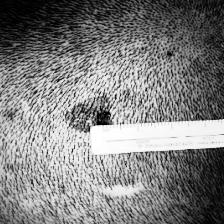Benign Marking or Mole: (66, 94, 120, 124)
